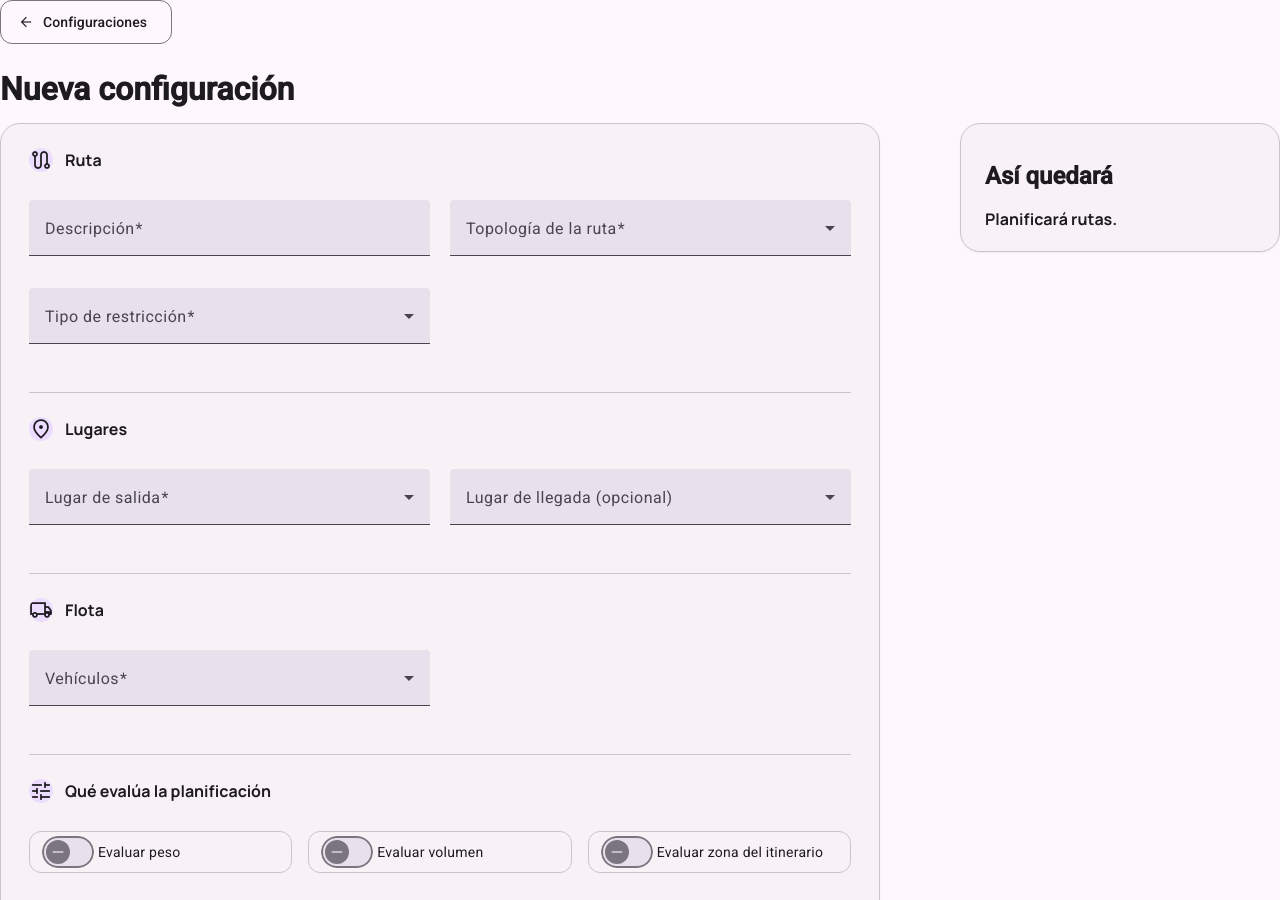
Test: SettingsFormComponent › alta › las acciones siguen siendo Cancelar y Guardar, con el aviso de cambios sin guardar
In the field labelled "Descripción": (230, 236) [45,224,414,248], type "Reparto"
(page scrolled)
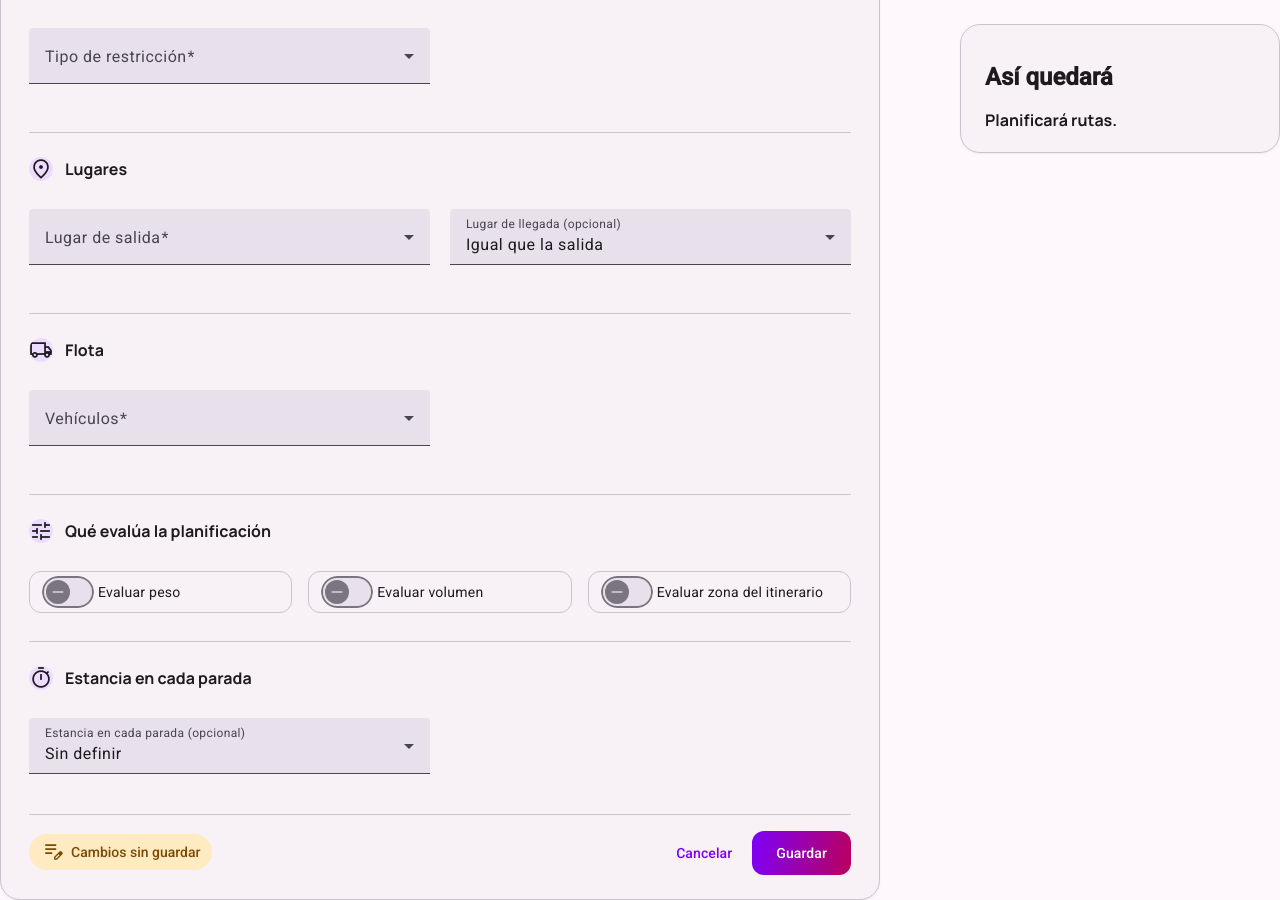
Now the element showing "Cambios sin guardar" is shown, box [29,834,212,870]
